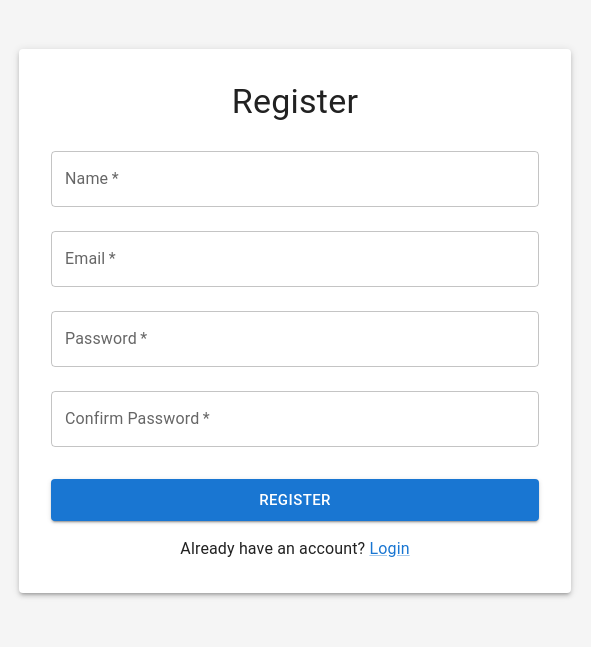
Test: RegisterPage › Form Validation › should show error when password is too short
In the field labelled "Name *": (295,179) [51,151,539,207], type "John Doe"
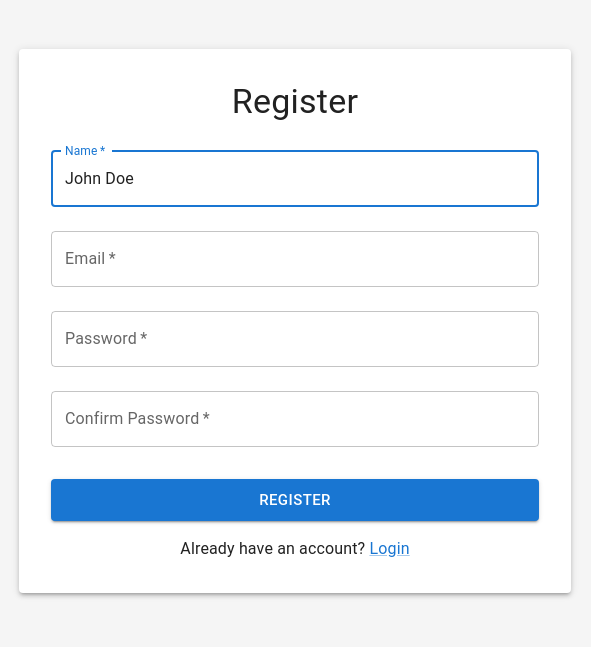
In the field labelled "Email *": (295,259) [51,231,539,287], type "john@example.com"
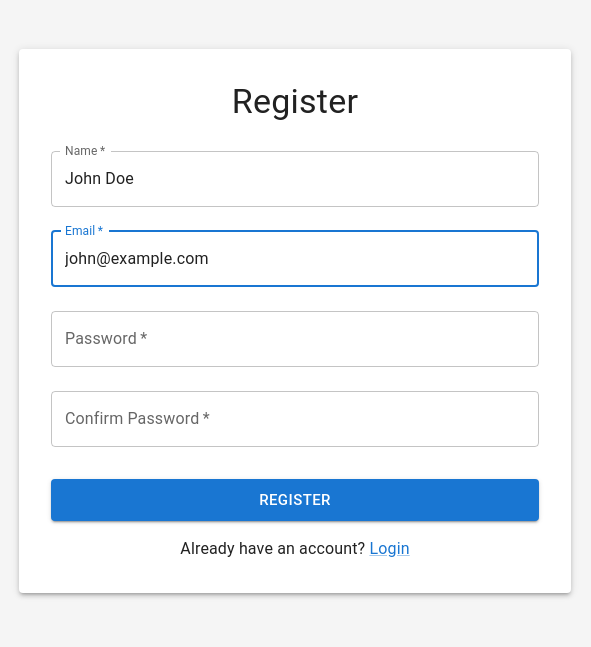
In the password field labelled "Password *": (295,339) [51,311,539,367], type "123"
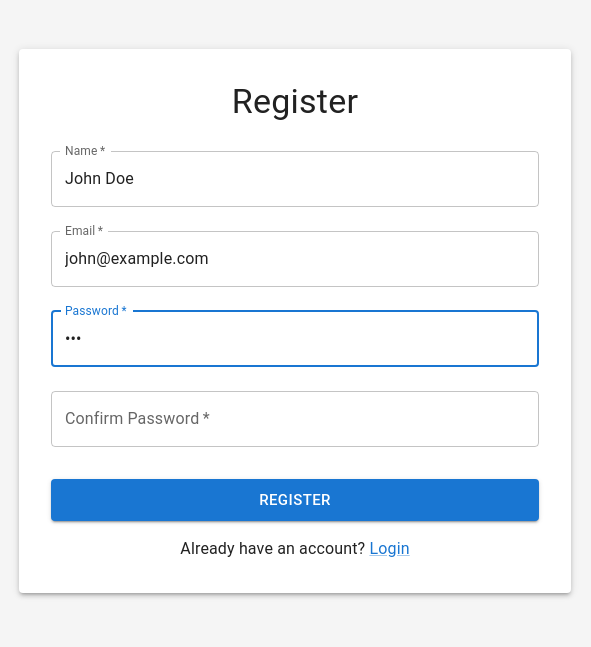
In the password field labelled "Confirm Password *": (295,419) [51,391,539,447], type "123"
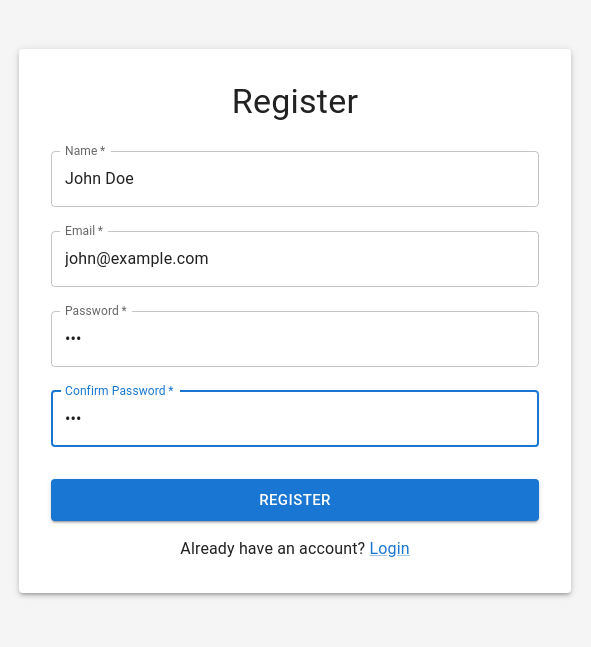
Click the button "Register": (295,500) [51,479,539,521]
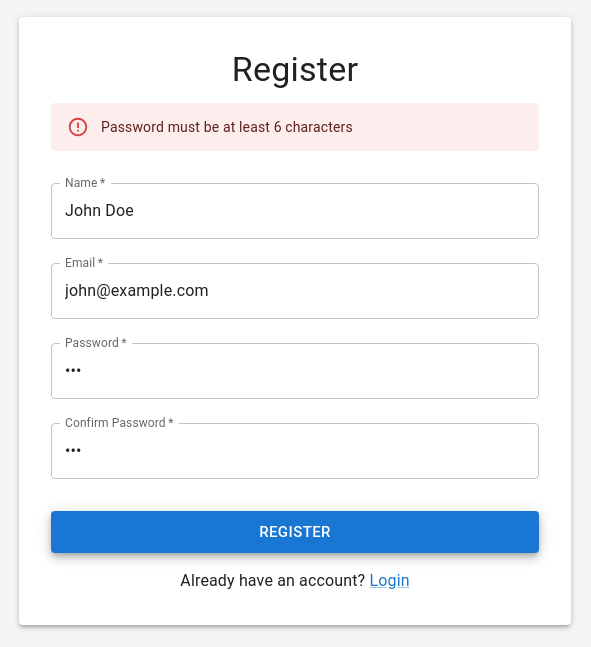
Expected: the text "Password must be at least 6 characters" is shown, [101,119,353,135]
